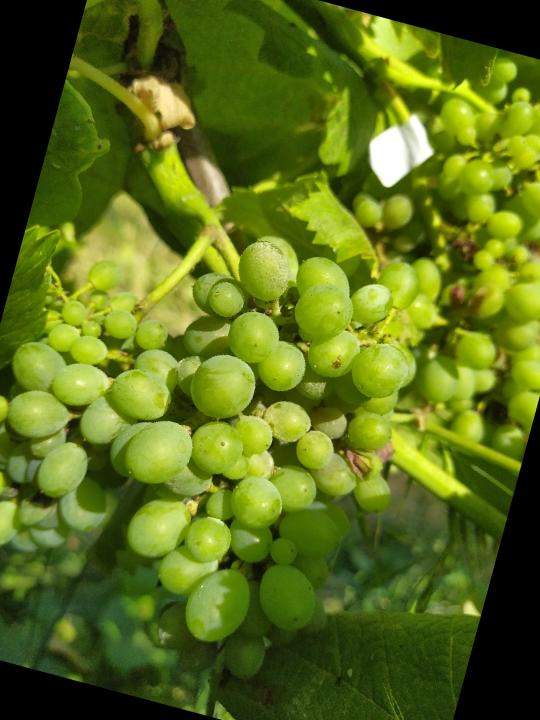grape: (0, 166, 456, 715)
